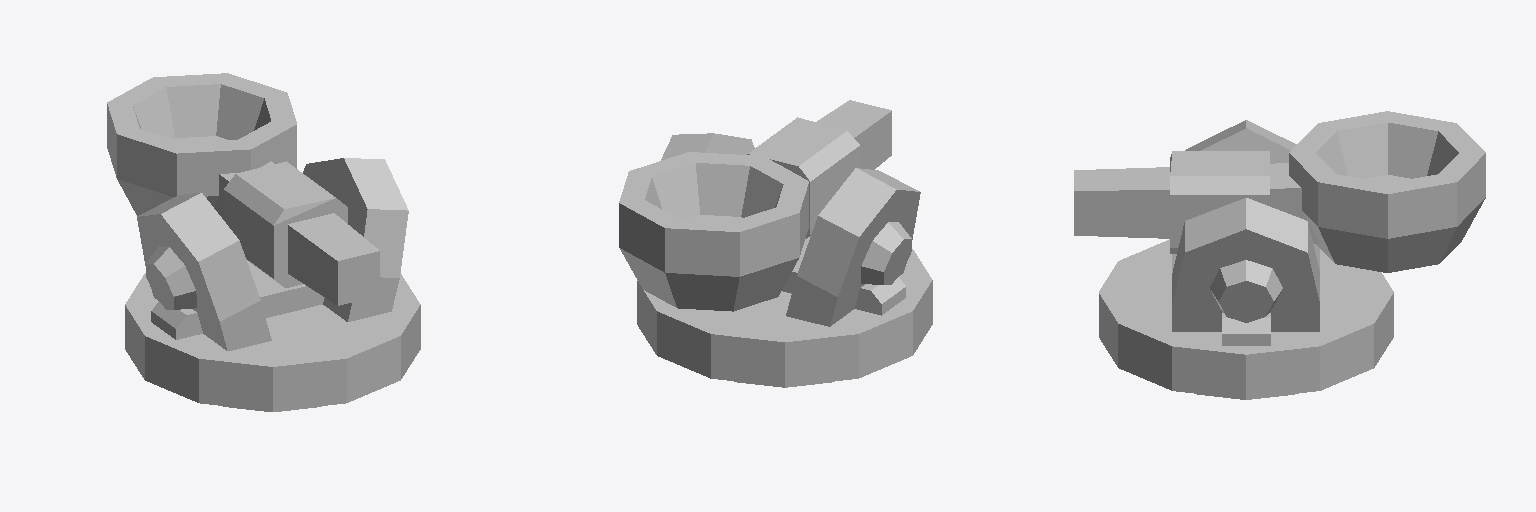
File: catapult.obj
The picture shows the model from 3 angles: view 1: azimuth 30°, elevation 25°; view 2: azimuth 150°, elevation 25°; view 3: azimuth 270°, elevation 25°; orthographic projection.
Parts seen in each view (by area): view 1: weapon-catapul, catapul; view 2: weapon-catapul, catapul; view 3: weapon-catapul, catapul.
Boxes of the visible parts, <box> form: weapon-catapul: <box>125,158,420,411</box>; catapul: <box>107,73,379,305</box>; weapon-catapul: <box>637,133,932,387</box>; catapul: <box>619,100,891,311</box>; weapon-catapul: <box>1099,120,1393,399</box>; catapul: <box>1074,111,1485,272</box>.
Bounding box in the file's own units: 0.6 × 0.4625 × 0.8366.